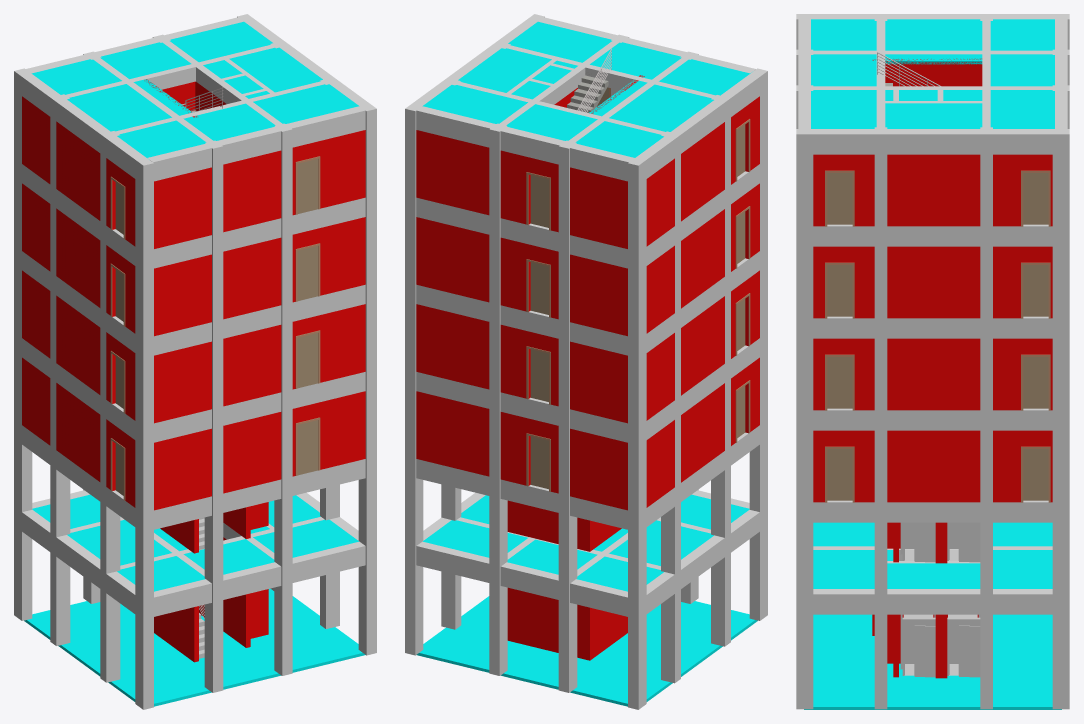
File: lift.gltf
The picture shows the model from 3 angles, left to right: view 1: azimuth 30°, elevation 25°; view 2: azimuth 150°, elevation 25°; view 3: azimuth 270°, elevation 25°; orthographic projection. The views are drawn at different scales.
Parts seen in each view (by area): view 1: product-afa2e2c0-8755-4b93-83d7-5b8e1e7dfcbd-body, product-2297b994-54ae-47ff-9c86-60efae898576-body, product-2297b994-54ae-47ff-9c86-60efae898580-body, product-e5b7a950-682f-42c6-a3cb-ec718b873f25-body, product-e5b7a950-682f-42c6-a3cb-ec718b873f23-body, product-790dae39-4335-4ce3-a2cc-62b97a5bf95f-body, product-e5b7a950-682f-42c6-a3cb-ec718b873ecf-body, product-790dae39-4335-4ce3-a2cc-62b97a5bf886-body, product-e5b7a950-682f-42c6-a3cb-ec718b873f26-body, product-e5b7a950-682f-42c6-a3cb-ec718b873ec8-body, product-e5b7a950-682f-42c6-a3cb-ec718b873f2c-body, product-e5b7a950-682f-42c6-a3cb-ec718b873f2d-body (+115 smaller); view 2: product-afa2e2c0-8755-4b93-83d7-5b8e1e7dfcbd-body, product-2297b994-54ae-47ff-9c86-60efae898576-body, product-2297b994-54ae-47ff-9c86-60efae898580-body, product-e5b7a950-682f-42c6-a3cb-ec718b873e8d-body, product-1cd3d06b-4844-4e22-827e-fc0e70cc33b2-body, product-e5b7a950-682f-42c6-a3cb-ec718b873eb9-body, product-e5b7a950-682f-42c6-a3cb-ec718b873e97-body, product-41433a53-6ead-44c5-97af-8cca7f2b9597-body, product-e5b7a950-682f-42c6-a3cb-ec718b873e91-body, product-e5b7a950-682f-42c6-a3cb-ec718b873ebb-body, product-e5b7a950-682f-42c6-a3cb-ec718b873e8f-body, product-2297b994-54ae-47ff-9c86-60efae899aa8-body (+107 smaller); view 3: product-afa2e2c0-8755-4b93-83d7-5b8e1e7dfcbd-body, product-2297b994-54ae-47ff-9c86-60efae898576-body, product-2297b994-54ae-47ff-9c86-60efae898580-body, product-b16369a7-29c0-4a22-8e43-6141ca3a88bd-body, product-afa2e2c0-8755-4b93-83d7-5b8e1e7dea17-body, product-b14e6850-0923-4e9c-8fc8-7df009966c69-body, product-b14e6850-0923-4e9c-8fc8-7df009966842-body, product-b16369a7-29c0-4a22-8e43-6141ca3a8b1a-body, product-afa2e2c0-8755-4b93-83d7-5b8e1e7dea16-body, product-b14e6850-0923-4e9c-8fc8-7df009966c68-body, product-b14e6850-0923-4e9c-8fc8-7df009966841-body, product-12cf48ca-2bb9-4c3a-a9bb-e6c55ef7cc3d-body (+75 smaller).
Boxes of the visible parts, left/top/right/bottom form: product-afa2e2c0-8755-4b93-83d7-5b8e1e7dfcbd-body: left=31, top=21, right=359, bottom=159; product-2297b994-54ae-47ff-9c86-60efae898576-body: left=24, top=588, right=365, bottom=706; product-2297b994-54ae-47ff-9c86-60efae898580-body: left=32, top=494, right=358, bottom=591; product-e5b7a950-682f-42c6-a3cb-ec718b873f25-body: left=223, top=237, right=281, bottom=319; product-e5b7a950-682f-42c6-a3cb-ec718b873f23-body: left=223, top=325, right=281, bottom=406; product-790dae39-4335-4ce3-a2cc-62b97a5bf95f-body: left=223, top=412, right=281, bottom=493; product-e5b7a950-682f-42c6-a3cb-ec718b873ecf-body: left=223, top=150, right=281, bottom=232; product-790dae39-4335-4ce3-a2cc-62b97a5bf886-body: left=154, top=428, right=211, bottom=510; product-e5b7a950-682f-42c6-a3cb-ec718b873f26-body: left=154, top=254, right=211, bottom=336; product-e5b7a950-682f-42c6-a3cb-ec718b873ec8-body: left=154, top=167, right=211, bottom=248; product-e5b7a950-682f-42c6-a3cb-ec718b873f2c-body: left=154, top=341, right=211, bottom=423; product-e5b7a950-682f-42c6-a3cb-ec718b873f2d-body: left=292, top=304, right=365, bottom=389; product-afa2e2c0-8755-4b93-83d7-5b8e1e7dfcbd-body: left=422, top=21, right=751, bottom=157; product-2297b994-54ae-47ff-9c86-60efae898576-body: left=416, top=596, right=757, bottom=706; product-2297b994-54ae-47ff-9c86-60efae898580-body: left=423, top=494, right=749, bottom=591; product-e5b7a950-682f-42c6-a3cb-ec718b873e8d-body: left=416, top=304, right=489, bottom=389; product-1cd3d06b-4844-4e22-827e-fc0e70cc33b2-body: left=416, top=391, right=489, bottom=476; product-e5b7a950-682f-42c6-a3cb-ec718b873eb9-body: left=416, top=130, right=489, bottom=215; product-e5b7a950-682f-42c6-a3cb-ec718b873e97-body: left=416, top=217, right=489, bottom=302; product-41433a53-6ead-44c5-97af-8cca7f2b9597-body: left=570, top=428, right=627, bottom=510; product-e5b7a950-682f-42c6-a3cb-ec718b873e91-body: left=570, top=254, right=627, bottom=336; product-e5b7a950-682f-42c6-a3cb-ec718b873ebb-body: left=570, top=167, right=627, bottom=248; product-e5b7a950-682f-42c6-a3cb-ec718b873e8f-body: left=570, top=341, right=627, bottom=423; product-2297b994-54ae-47ff-9c86-60efae899aa8-body: left=508, top=587, right=592, bottom=660; product-afa2e2c0-8755-4b93-83d7-5b8e1e7dfcbd-body: left=811, top=19, right=1054, bottom=128; product-2297b994-54ae-47ff-9c86-60efae898576-body: left=804, top=614, right=1061, bottom=709; product-2297b994-54ae-47ff-9c86-60efae898580-body: left=813, top=522, right=1052, bottom=588; product-b16369a7-29c0-4a22-8e43-6141ca3a88bd-body: left=926, top=430, right=980, bottom=502; product-afa2e2c0-8755-4b93-83d7-5b8e1e7dea17-body: left=926, top=338, right=980, bottom=410; product-b14e6850-0923-4e9c-8fc8-7df009966c69-body: left=926, top=246, right=980, bottom=318; product-b14e6850-0923-4e9c-8fc8-7df009966842-body: left=926, top=154, right=980, bottom=226; product-b16369a7-29c0-4a22-8e43-6141ca3a8b1a-body: left=813, top=430, right=874, bottom=502; product-afa2e2c0-8755-4b93-83d7-5b8e1e7dea16-body: left=813, top=338, right=874, bottom=410; product-b14e6850-0923-4e9c-8fc8-7df009966c68-body: left=813, top=246, right=874, bottom=318; product-b14e6850-0923-4e9c-8fc8-7df009966841-body: left=813, top=154, right=874, bottom=226; product-12cf48ca-2bb9-4c3a-a9bb-e6c55ef7cc3d-body: left=887, top=430, right=925, bottom=502.
Bounding box in the file's own units: 10.15 × 23.52 × 9.7.
